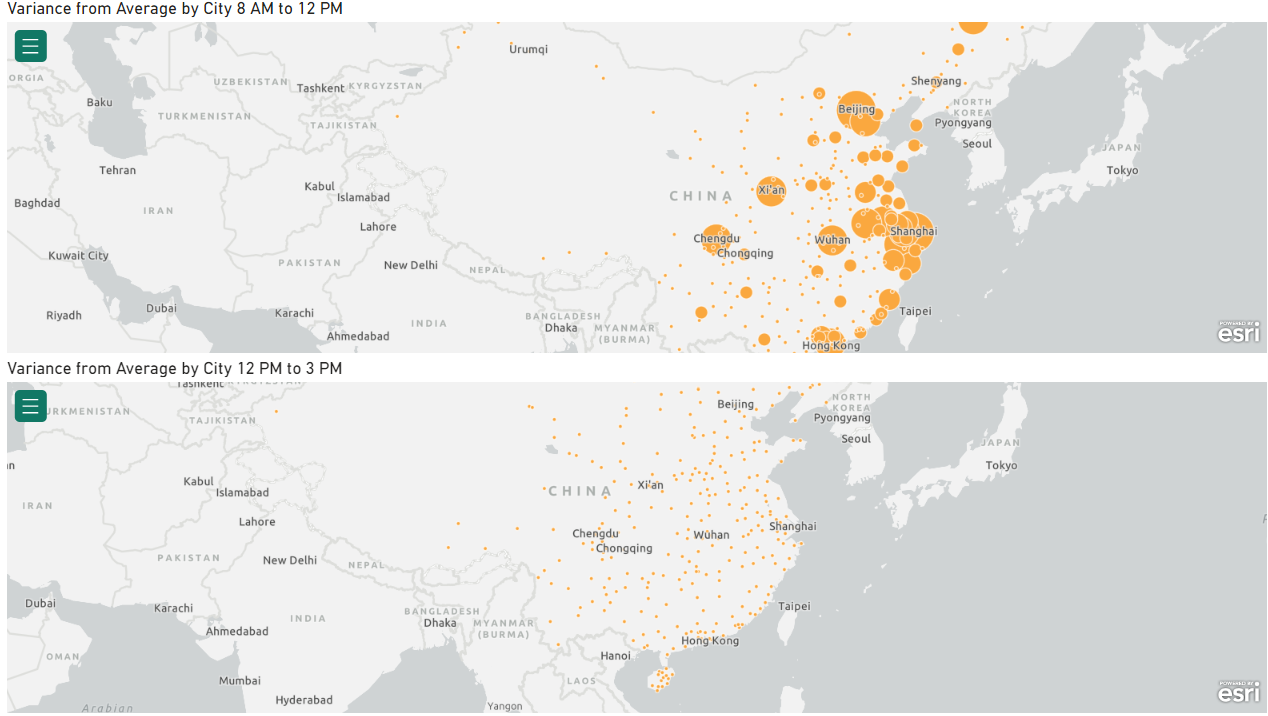

Layout of this report page (visuals, bound fields, positions):
{"tool":"powerbi","page":{"name":"Page 2","canvas":[1280,720],"ordinal":1},"visuals":[{"type":"esriVisual","title":"Variance from Average by City 8 AM to 12 PM","fields":{"Size":["5 AM - 9 AM.Variance from Average"],"Location":["5 AM - 9 AM.SHIP_TO_CITY_CD_EN"]},"box":[10,0,1270,360],"z":0},{"type":"esriVisual","title":"Variance from Average by City 12 PM to 3 PM","fields":{"Location":["Sheet1.SHIP_TO_CITY_CD_EN"],"Size":["Sheet1.Variance_from_Average"]},"box":[10,360,1270,360],"z":1}]}

Visuals, with their boxes in screenshot pixels (x1, y1, x2, y2), scaled from the page's 1280x720 canvas onto the 1268x716 screenshot:
"Variance from Average by City 8 AM to 12 PM" esriVisual: Rect(10, 0, 1267, 358)
"Variance from Average by City 12 PM to 3 PM" esriVisual: Rect(10, 358, 1267, 715)
